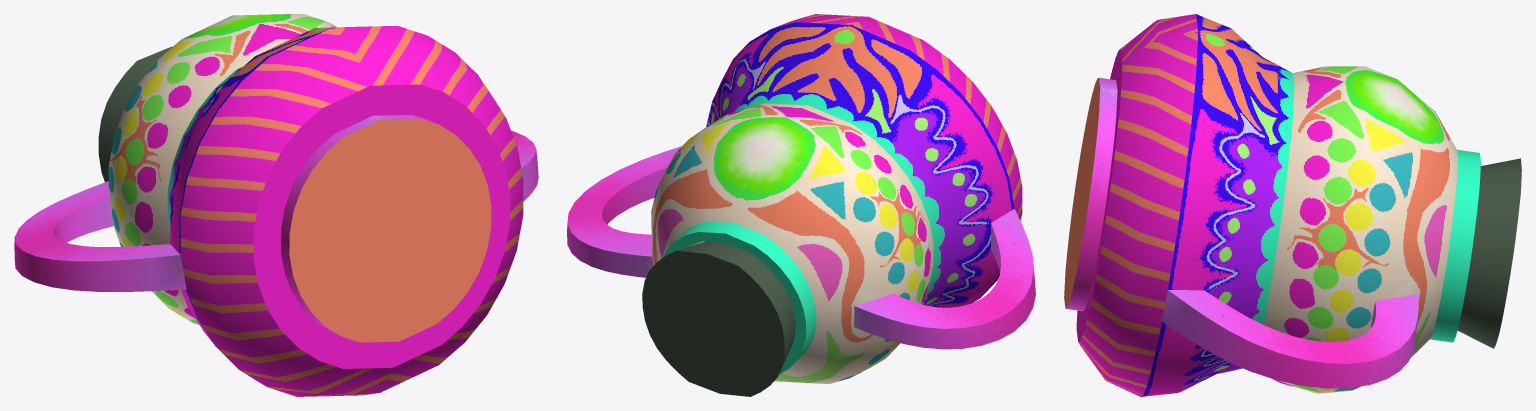
File: Artifact 3fbx.fbx
3 renders of one model, left to right at view 1: azimuth 30°, elevation 25°; view 2: azimuth 150°, elevation 25°; view 3: azimuth 270°, elevation 25°, orthographic. The views are drawn at different scales.
Parts seen in each view (by area): view 1: Artifact 1.002; view 2: Artifact 1.002; view 3: Artifact 1.002.
Boxes of the visible parts, left/top/right/bottom form: Artifact 1.002: left=14, top=14, right=538, bottom=396; Artifact 1.002: left=567, top=14, right=1035, bottom=396; Artifact 1.002: left=1064, top=14, right=1521, bottom=396.
Bounding box in the file's own units: 328 × 220 × 263.
